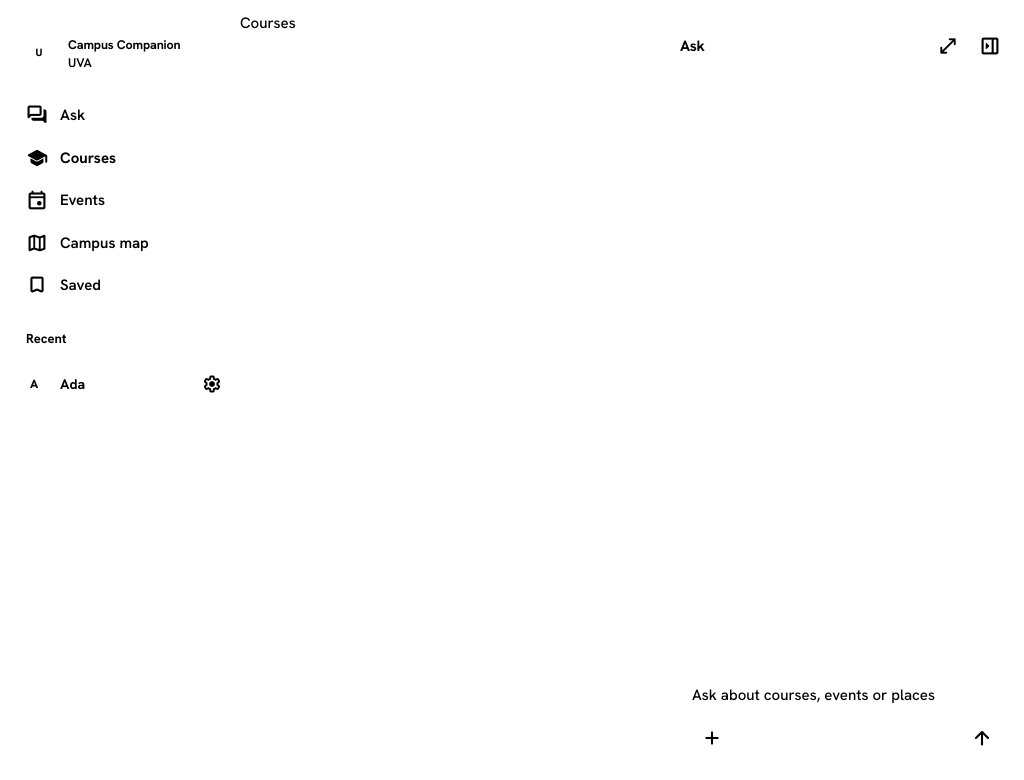
Scenario: chat dock by width (D17) › a blocked localStorage still lets the dock collapse
This screenshot has width=1024, height=780.
Click the button named "Collapse Ask" at point(990, 46), box 968,24 -> 1012,68
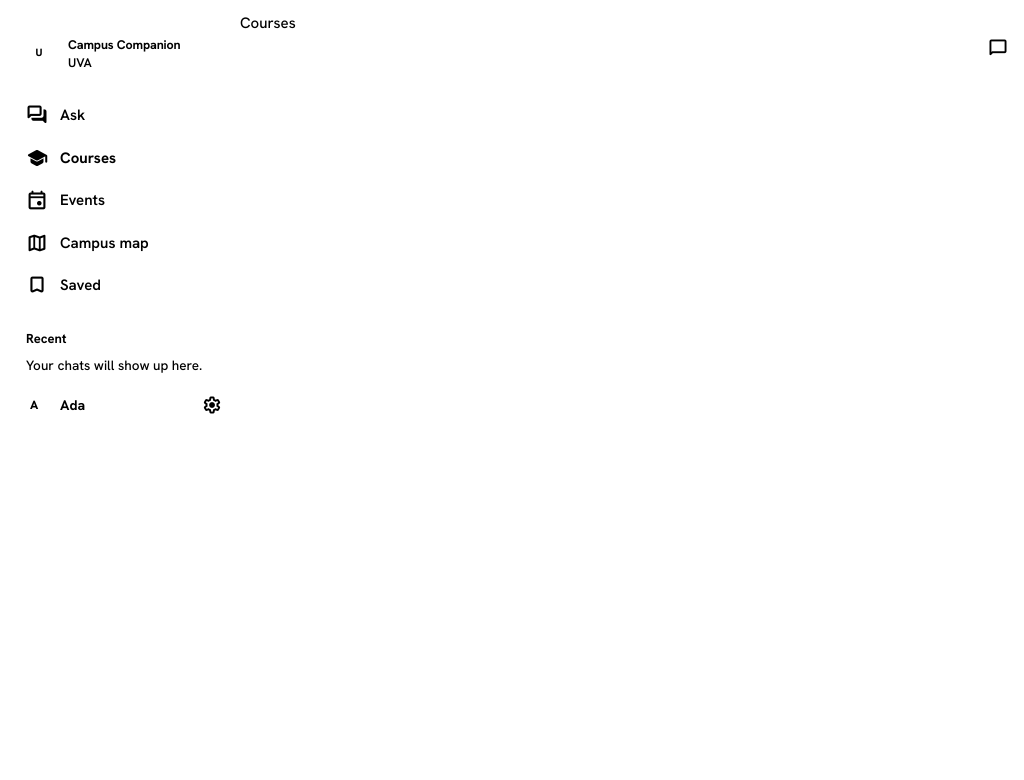
Now the button named "Open Ask" is shown, box 976,26 -> 1020,70
Now the text "Your chats will show up here." is shown, box 26,356 -> 202,374
